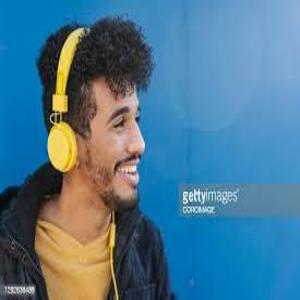Headphones: (47, 23, 102, 173)
